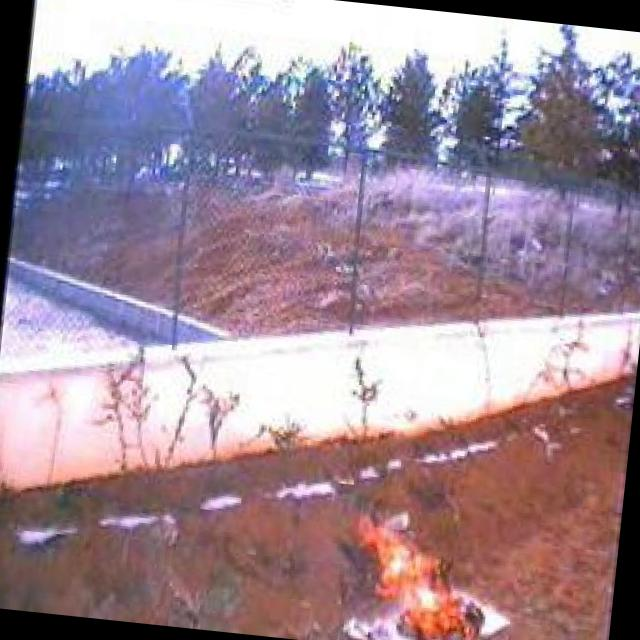Fire: (343, 503, 496, 640)
